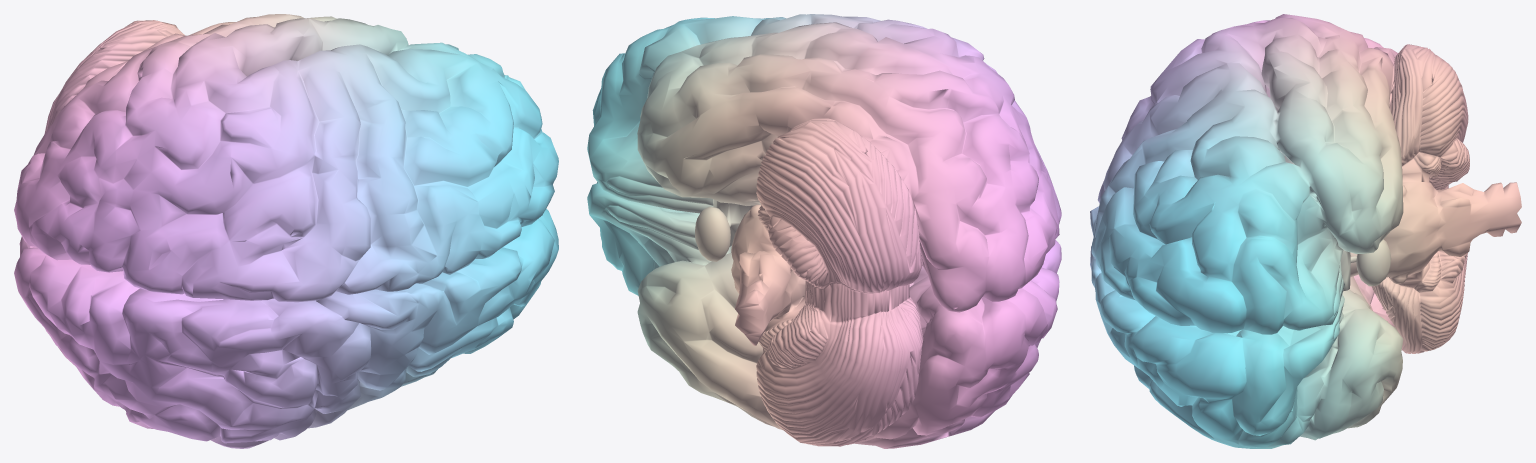
Rendered from brain.glb.
3 views of the same model, side by side, from view 1: azimuth 30°, elevation 25°; view 2: azimuth 150°, elevation 25°; view 3: azimuth 270°, elevation 25° (orthographic). The views are drawn at different scales.
Parts seen in each view (by area): view 1: BRAIN.stl; view 2: BRAIN.stl; view 3: BRAIN.stl.
Boxes of the visible parts, box(x1,y1,x2,y2) form: BRAIN.stl: box(14, 14, 558, 448); BRAIN.stl: box(587, 14, 1061, 448); BRAIN.stl: box(1090, 14, 1521, 448).
Size of the model in its own units: 165 by 132 by 140.
